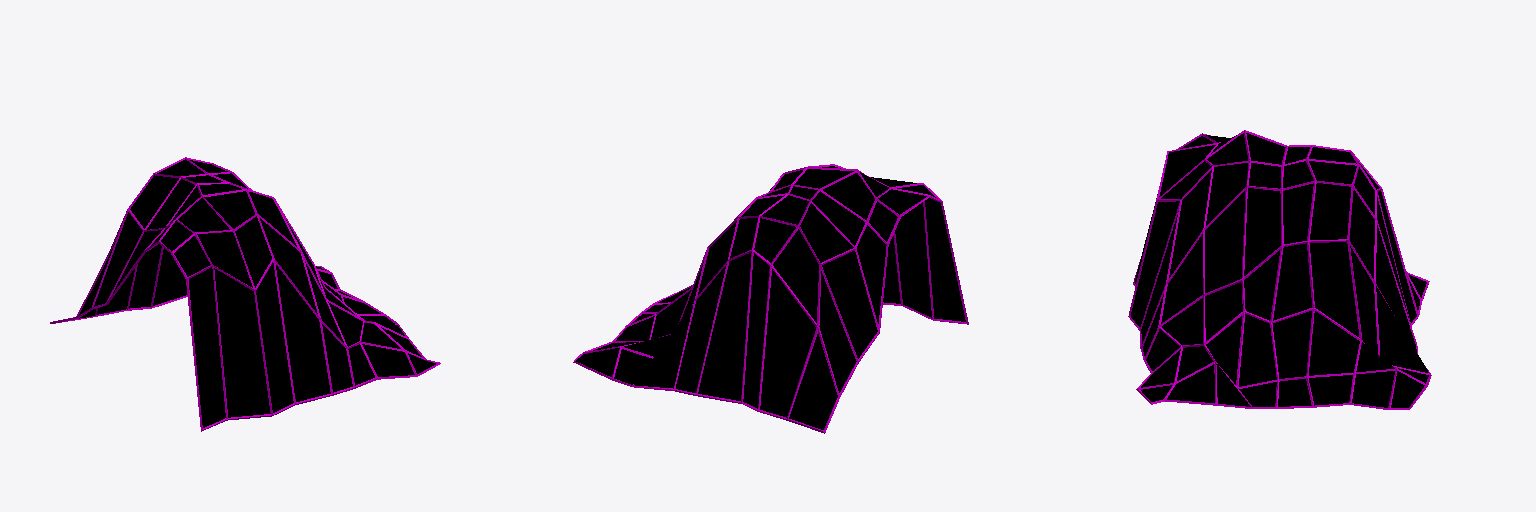
Rendered from cliffs.obj.
The picture shows the model from 3 angles: view 1: azimuth 30°, elevation 25°; view 2: azimuth 150°, elevation 25°; view 3: azimuth 270°, elevation 25°; orthographic projection.
Visible parts, largest first — view 1: Plane, Plane.001; view 2: Plane, Plane.001; view 3: Plane, Plane.001.
Part boxes in pixels (bbox=[...]): Plane: bbox=[79, 159, 435, 427]; Plane.001: bbox=[50, 157, 440, 431]; Plane: bbox=[576, 166, 965, 429]; Plane.001: bbox=[573, 164, 968, 433]; Plane: bbox=[1131, 133, 1428, 407]; Plane.001: bbox=[1128, 130, 1431, 409].
Bounding box in the file's own units: 10.75 × 7.11 × 10.74.